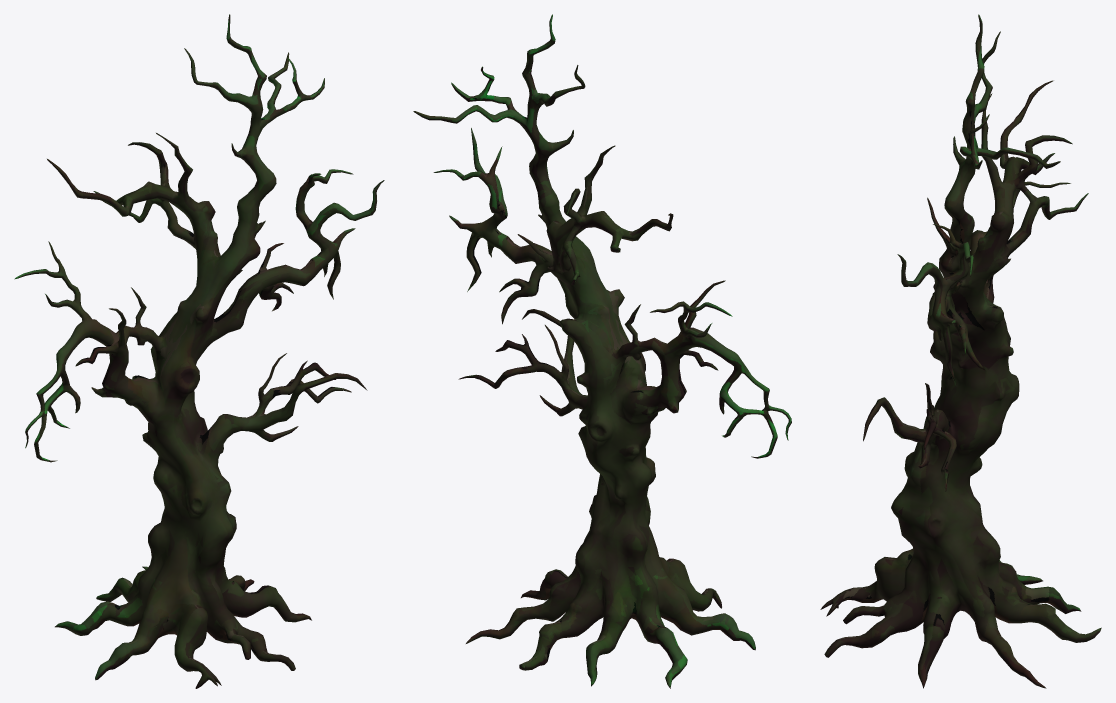
File: dead_tree_01.glb
3 views of the same model, side by side, from view 1: azimuth 30°, elevation 25°; view 2: azimuth 150°, elevation 25°; view 3: azimuth 270°, elevation 25° (orthographic). The views are drawn at different scales.
Parts seen in each view (by area): view 1: gnarled+dead+tree+3d+model; view 2: gnarled+dead+tree+3d+model; view 3: gnarled+dead+tree+3d+model.
Part boxes in pixels (left/top/right/bottom): gnarled+dead+tree+3d+model: left=14, top=14, right=384, bottom=688; gnarled+dead+tree+3d+model: left=413, top=14, right=791, bottom=688; gnarled+dead+tree+3d+model: left=820, top=14, right=1101, bottom=688.
Size of the model in its own units: 0.5874 by 0.9995 by 0.394.
Materials: 1 (1 with a texture image).
